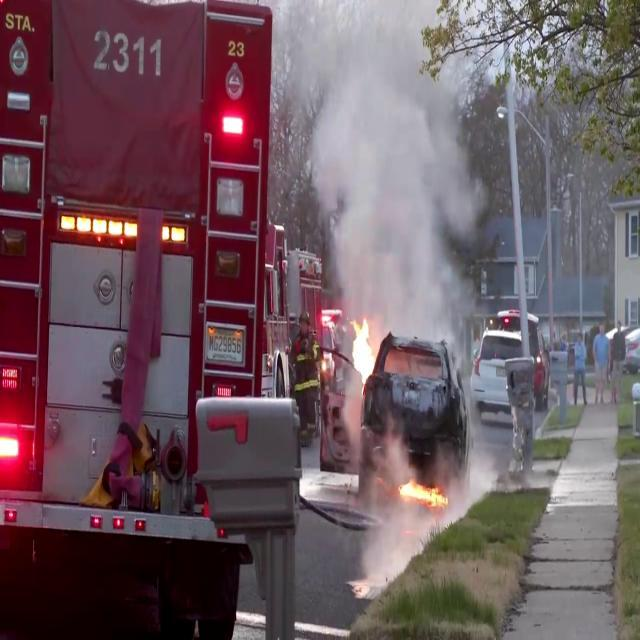Fire: (348, 310, 380, 384), (396, 469, 444, 509)
Smoke: (298, 1, 484, 323)
